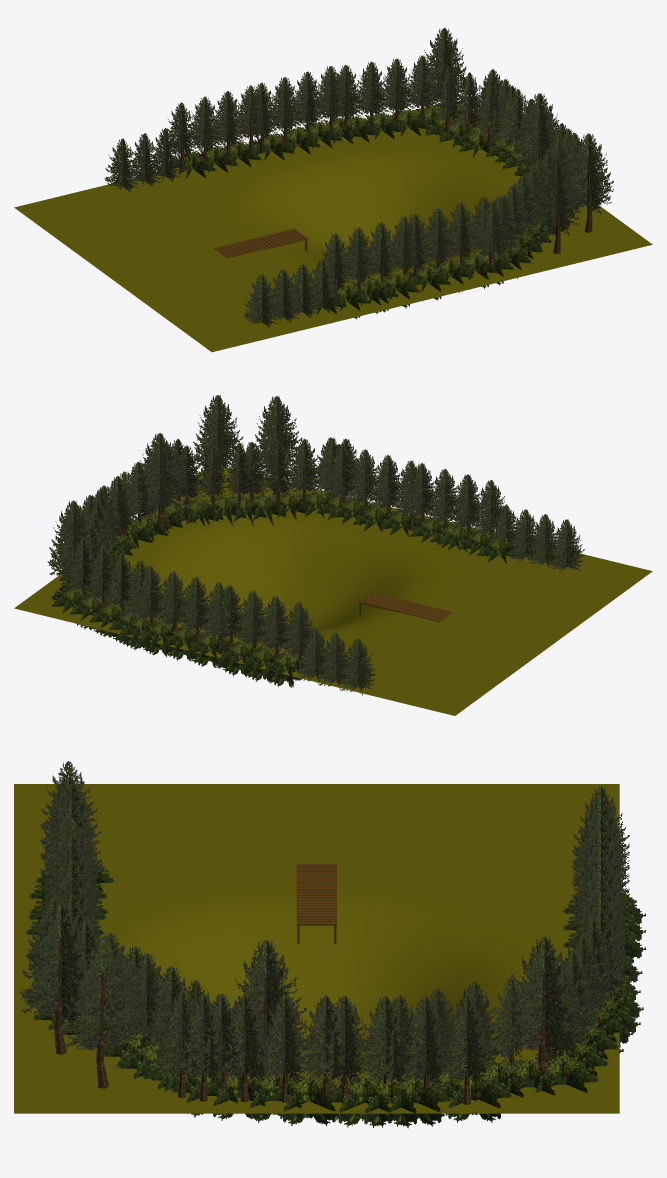
The model's file is lake.glb.
The picture shows the model from 3 angles, top to bottom: view 1: azimuth 30°, elevation 25°; view 2: azimuth 150°, elevation 25°; view 3: azimuth 270°, elevation 25°; orthographic projection. The views are drawn at different scales.
Parts seen in each view (by area): view 1: Plane, Ps1Tree3Texture.180, Ps1Tree3Texture.176, Ps1Tree3Texture.178, Cube, Ps1Tree3Texture.174, Ps1Tree3Texture.184, Ps1Tree3Texture.186, Ps1Tree3Texture.196, Ps1Tree3Texture.172, Ps1Tree3Texture.192, Ps1Tree3Texture.003 (+38 smaller); view 2: Plane, Ps1Tree3Texture.185, Cube, Ps1Tree3Texture.173, Ps1Tree3Texture.177, Ps1Tree3Texture.181, Ps1Tree3Texture.178, Ps1Tree3Texture.186, Ps1Tree3Texture.122, Ps1Tree3Texture.182, Ps1Tree3Texture.013, Ps1Tree3Texture.106 (+38 smaller); view 3: Plane, Ps1Tree3Texture.179, Ps1Tree3Texture.175, Cube, Ps1Tree3Texture.183, Ps1Tree3Texture.176, Ps1Tree3Texture.173, Ps1Tree3Texture.181, Ps1Tree3Texture.172, Ps1Tree3Texture.180, Ps1Tree3Texture.187, Ps1Tree3Texture.138 (+63 smaller).
Part boxes in pixels (x1,y1,x2,y2): Plane: (14,103,652,352); Ps1Tree3Texture.180: (531,154,582,228); Ps1Tree3Texture.176: (564,133,613,207); Ps1Tree3Texture.178: (566,133,612,206); Cube: (214,228,307,258); Ps1Tree3Texture.174: (421,28,466,101); Ps1Tree3Texture.184: (513,93,561,165); Ps1Tree3Texture.186: (517,93,557,166); Ps1Tree3Texture.196: (104,138,140,188); Ps1Tree3Texture.172: (424,28,466,101); Ps1Tree3Texture.192: (128,133,163,182); Ps1Tree3Texture.003: (167,102,199,154); Plane: (14,466,652,715); Ps1Tree3Texture.185: (134,433,185,508); Cube: (359,592,452,621); Ps1Tree3Texture.173: (47,500,98,575); Ps1Tree3Texture.177: (193,395,243,468); Ps1Tree3Texture.181: (253,396,302,468); Ps1Tree3Texture.178: (194,395,237,468); Ps1Tree3Texture.186: (142,433,182,506); Ps1Tree3Texture.122: (261,440,297,493); Ps1Tree3Texture.182: (254,396,299,467); Ps1Tree3Texture.013: (211,585,244,637); Ps1Tree3Texture.106: (173,445,206,498); Plane: (14,784,619,1113); Ps1Tree3Texture.179: (61,936,143,1050); Ps1Tree3Texture.175: (503,936,584,1050); Cube: (296,864,336,925); Ps1Tree3Texture.183: (19,902,98,1016); Ps1Tree3Texture.176: (74,936,132,1051); Ps1Tree3Texture.173: (518,937,573,1057); Ps1Tree3Texture.181: (32,903,86,1022); Ps1Tree3Texture.172: (516,936,571,1051); Ps1Tree3Texture.180: (32,902,88,1017); Ps1Tree3Texture.187: (229,940,306,1049); Ps1Tree3Texture.138: (439,997,495,1076).
Size of the model in its own units: 72.73 by 21.93 by 57.83.
7 materials, 5 textured.
